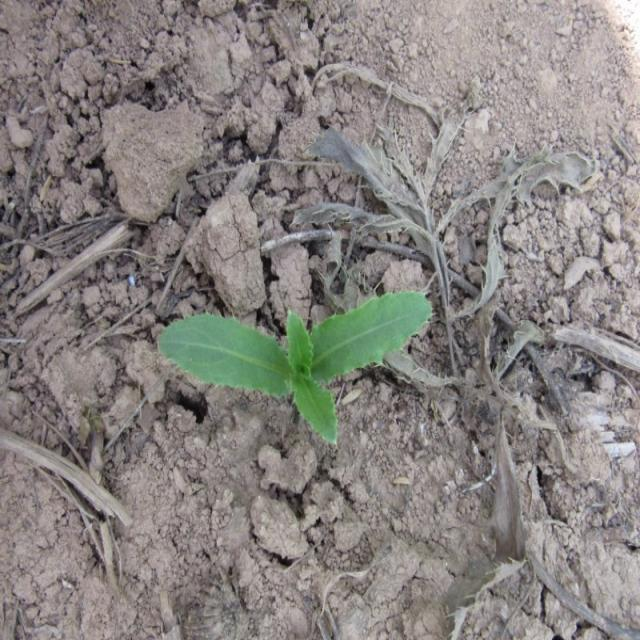field_thistle: (167, 221, 464, 477)
